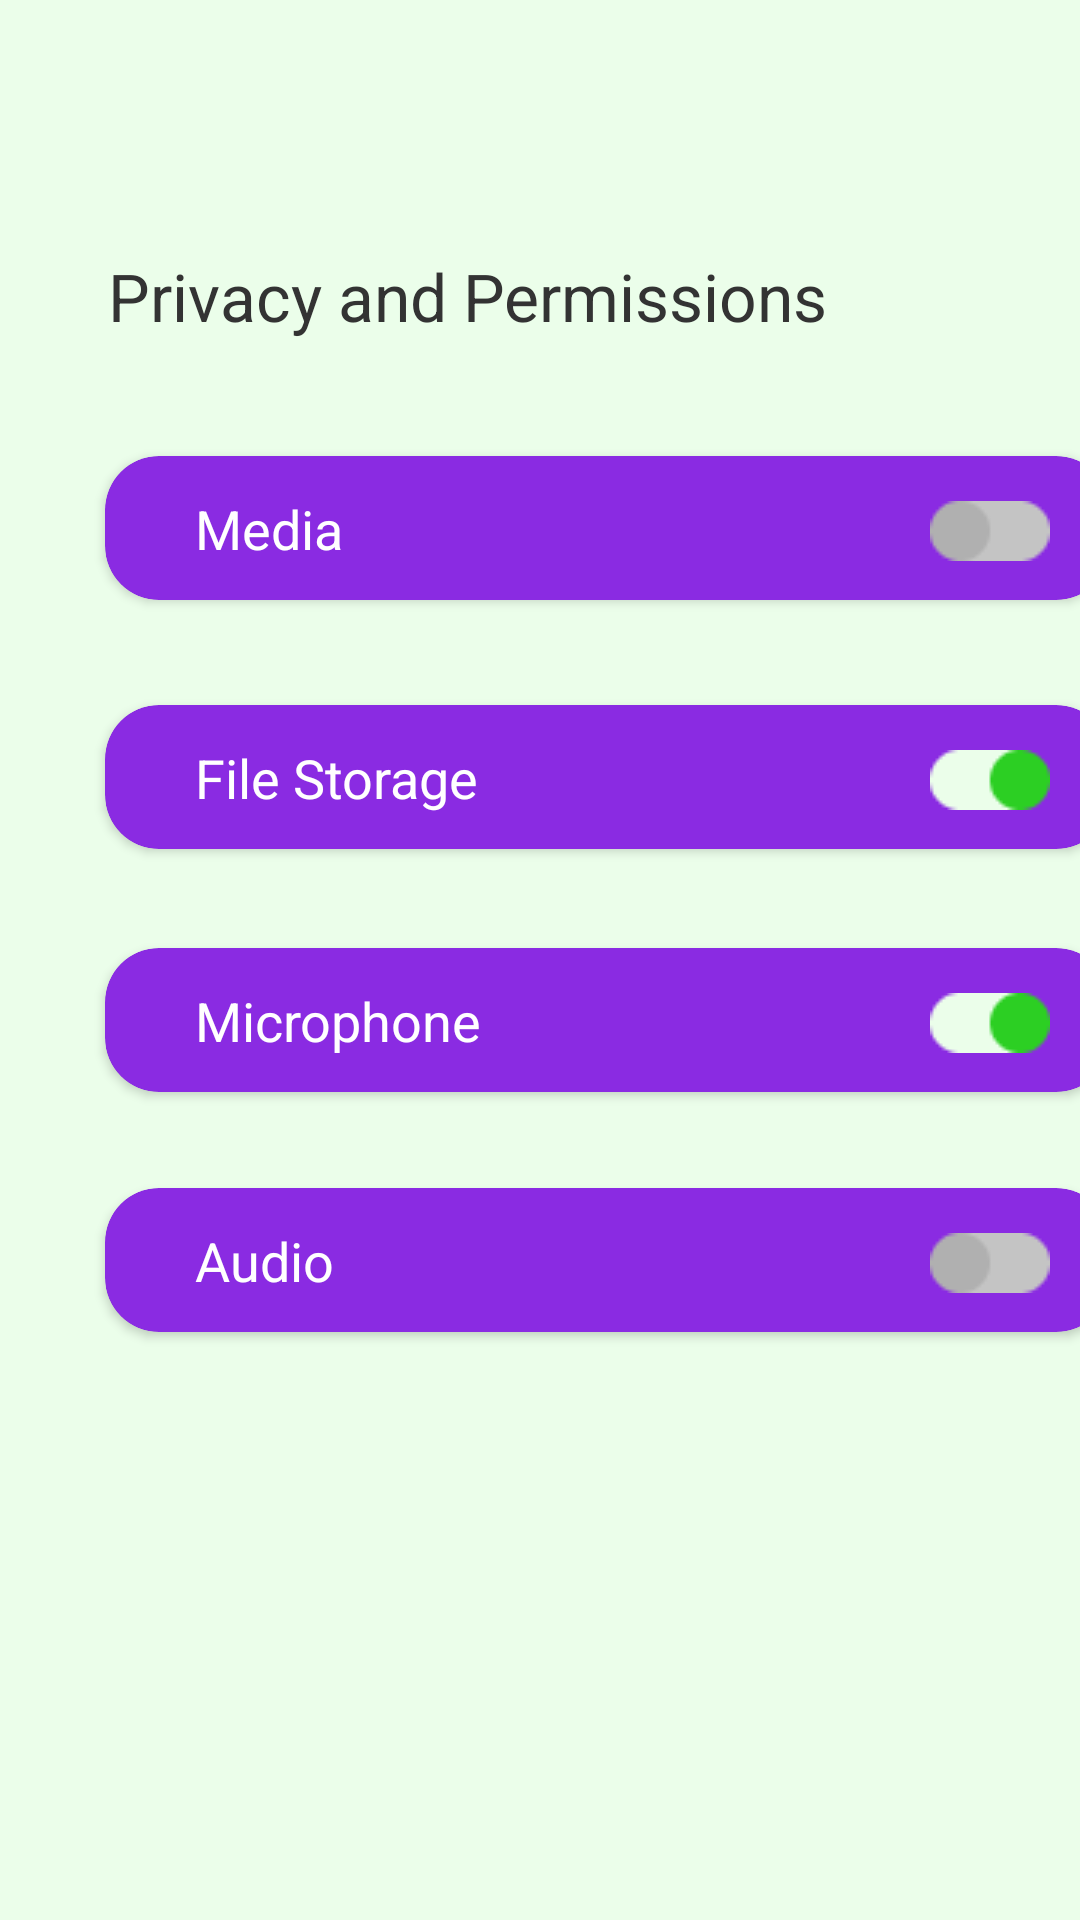

Where to tap for icons on this 1080×1920 app screen, as point (x, y):
slidebutton: point (990, 531), point (990, 780), point (990, 1023), point (990, 1263)
